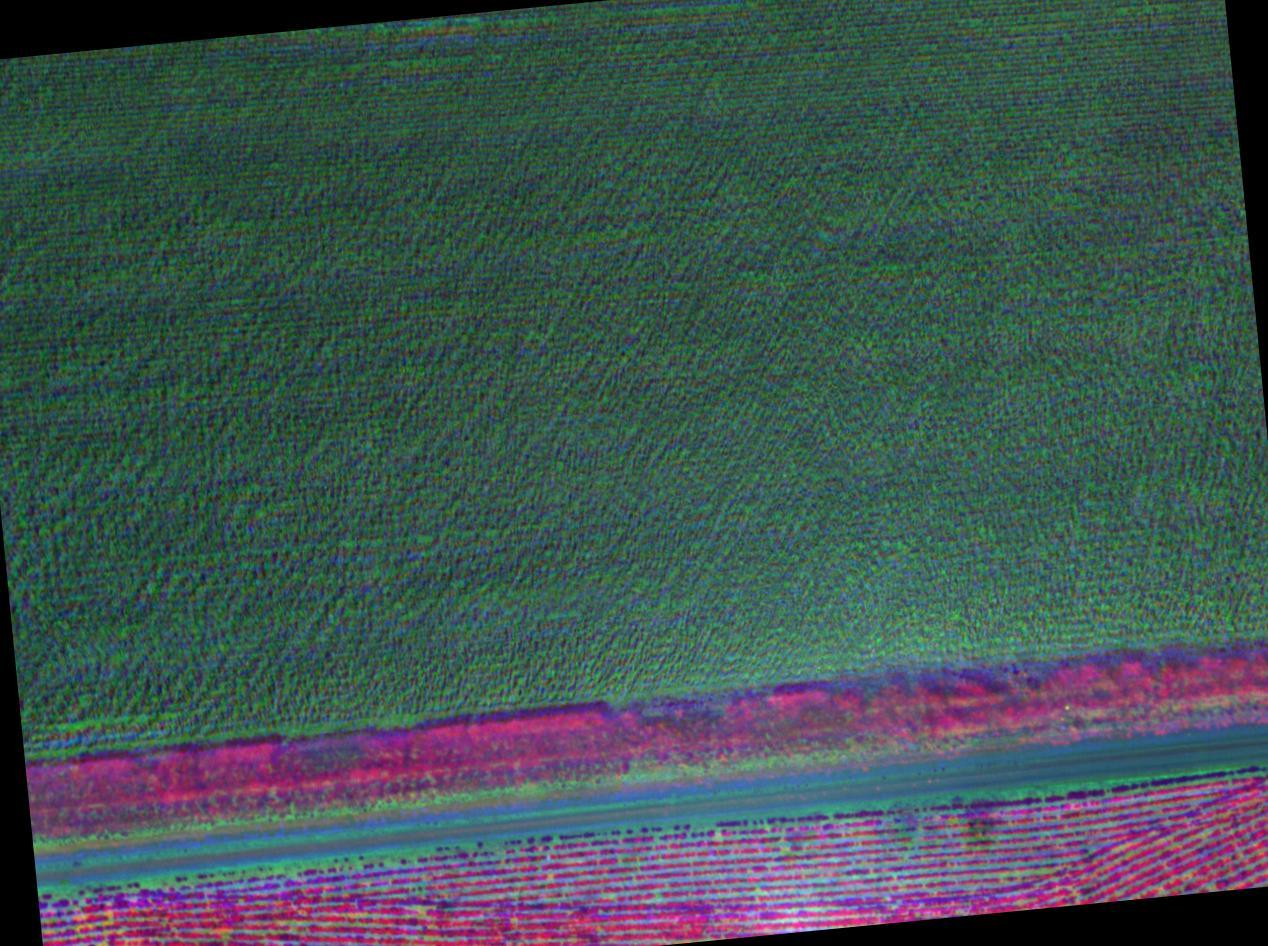dc: (931, 766, 1024, 857)
